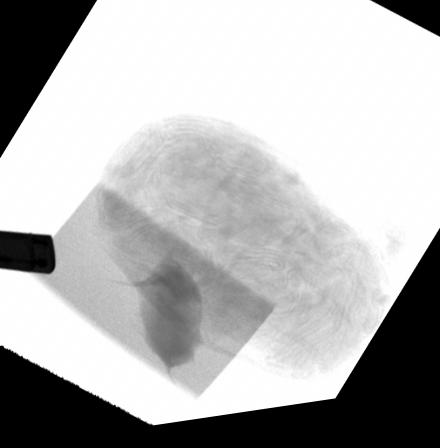Lighter: (0, 230, 56, 275)
